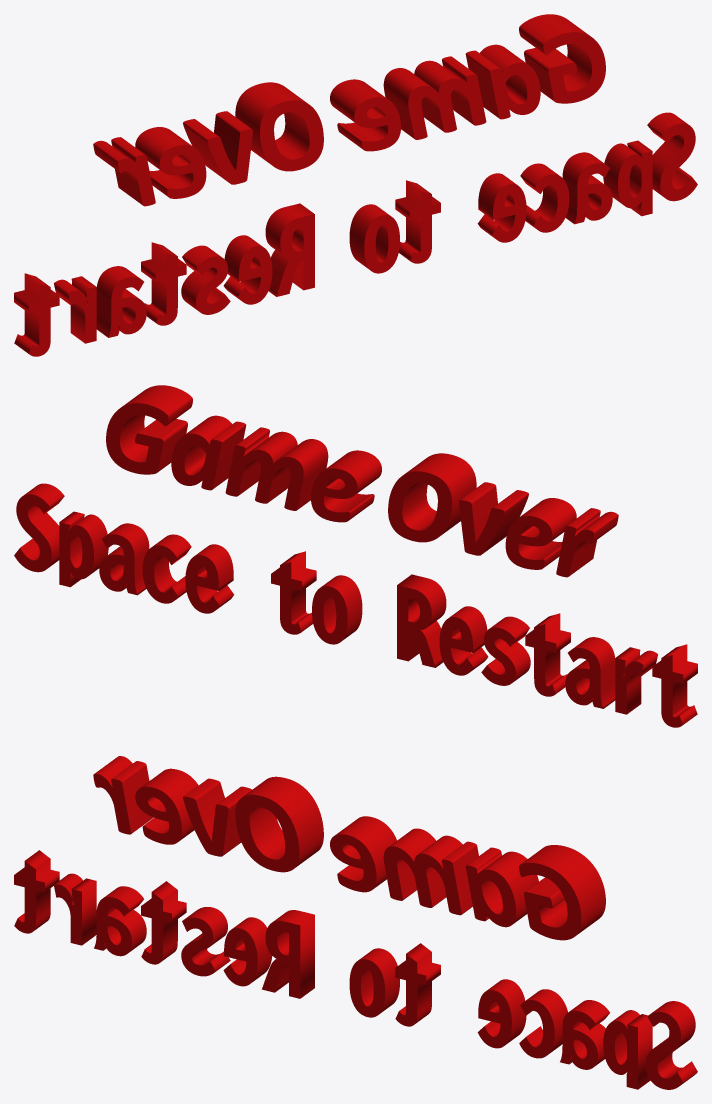
The model's file is gameOver.obj.
3 views of the same model, one above another, from view 1: azimuth 30°, elevation 25°; view 2: azimuth 150°, elevation 25°; view 3: azimuth 330°, elevation 25° (orthographic).
Parts seen in each view (by area): view 1: テキスト.001, テキスト; view 2: テキスト.001, テキスト; view 3: テキスト.001, テキスト.
Part boxes in pixels (x1,y1,x2,y2): テキスト.001: (14, 112, 697, 356); テキスト: (93, 14, 605, 206); テキスト.001: (14, 483, 697, 727); テキスト: (106, 385, 618, 577); テキスト.001: (14, 850, 697, 1089); テキスト: (93, 756, 605, 940).
Size of the model in its own units: 47.41 by 13.98 by 3.
